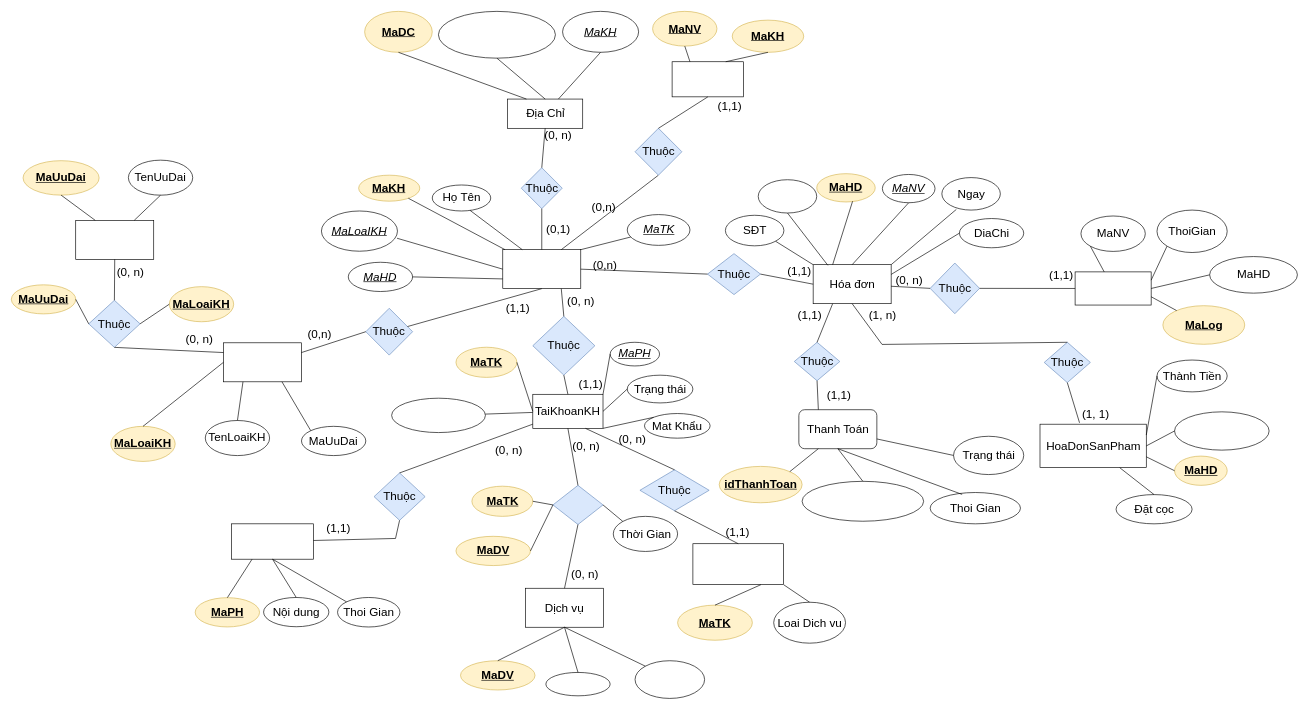
Some shapes in this 1309 by 710 pixel diagram are drawn without their labels. Each missing label, with the centre of its shape:
"HinhThucThanhToan" belongs at (862,501).
"Khách hàng" belongs at (541,269).
"Log" belongs at (1112,288).
"Log Khách Hàng" belongs at (707,79).
"Loại Khách Hàng" belongs at (262,362).
"MaGoiDichVu" belongs at (1221,430).
"Mô Tả" belongs at (577,684).
"Phản hồi" belongs at (272,541).
"Quận / Phường / Xã" belongs at (496,34).
"Sử dụng" belongs at (577,504).
"Ten Dich vu" belongs at (669,679).
"Ten nguoi dung" belongs at (438,415).
"Thong Tin Dat Hang" belongs at (738,564).
"Tổng Tiền" belongs at (787,196).
"Ưu Đãi" belongs at (114,239).
